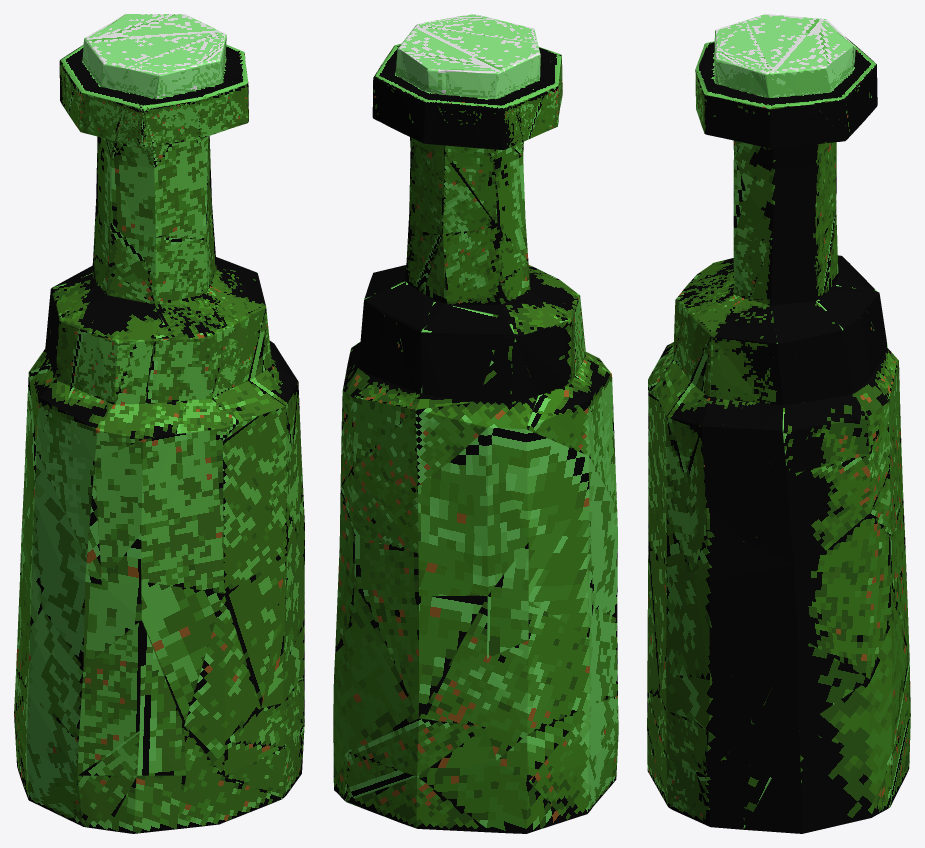
3 views of the same model, side by side, from view 1: azimuth 30°, elevation 25°; view 2: azimuth 150°, elevation 25°; view 3: azimuth 270°, elevation 25° (orthographic).
Visible parts, largest first — view 1: OBJ0ba; view 2: OBJ0ba; view 3: OBJ0ba.
Boxes of the visible parts, x1=… form: OBJ0ba: x1=14, y1=14, x2=304, y2=833; OBJ0ba: x1=333, y1=14, x2=618, y2=833; OBJ0ba: x1=647, y1=14, x2=910, y2=833.
Size of the model in its own units: 0.126 by 0.3556 by 0.1161.
Materials: 1 (1 with a texture image).
